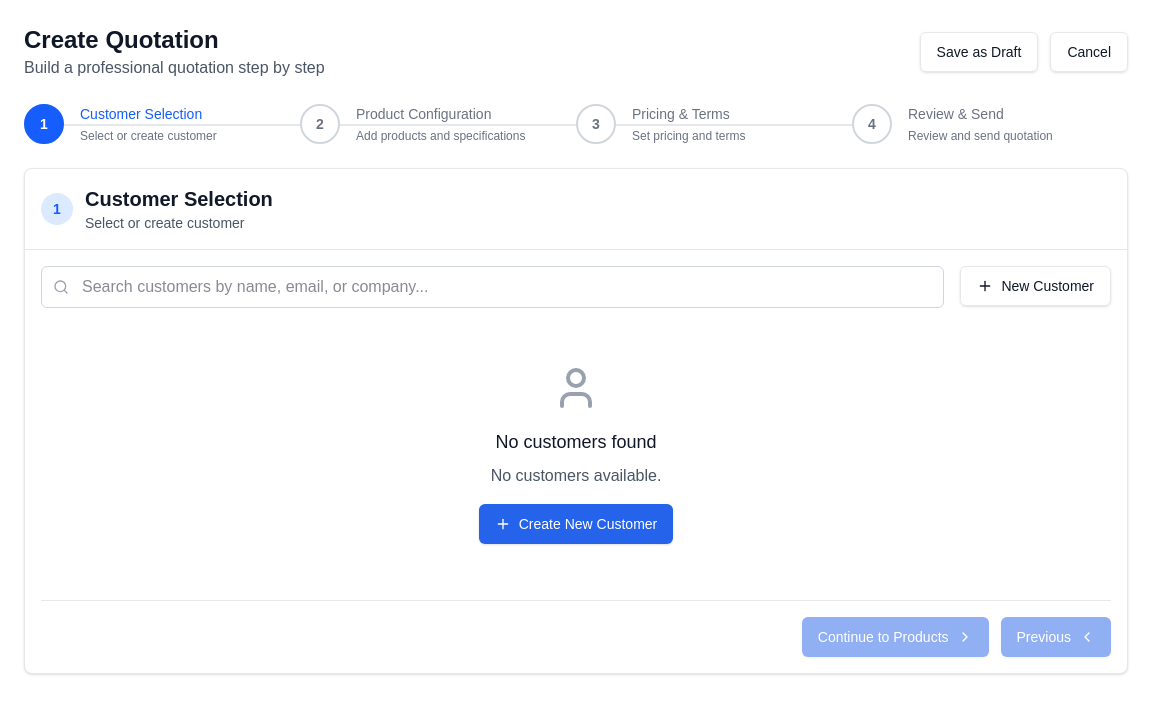
QuotationBuilder › allows switching to new customer form
Click the button "New Customer".
click(1036, 286)  # box [960,266,1111,306]
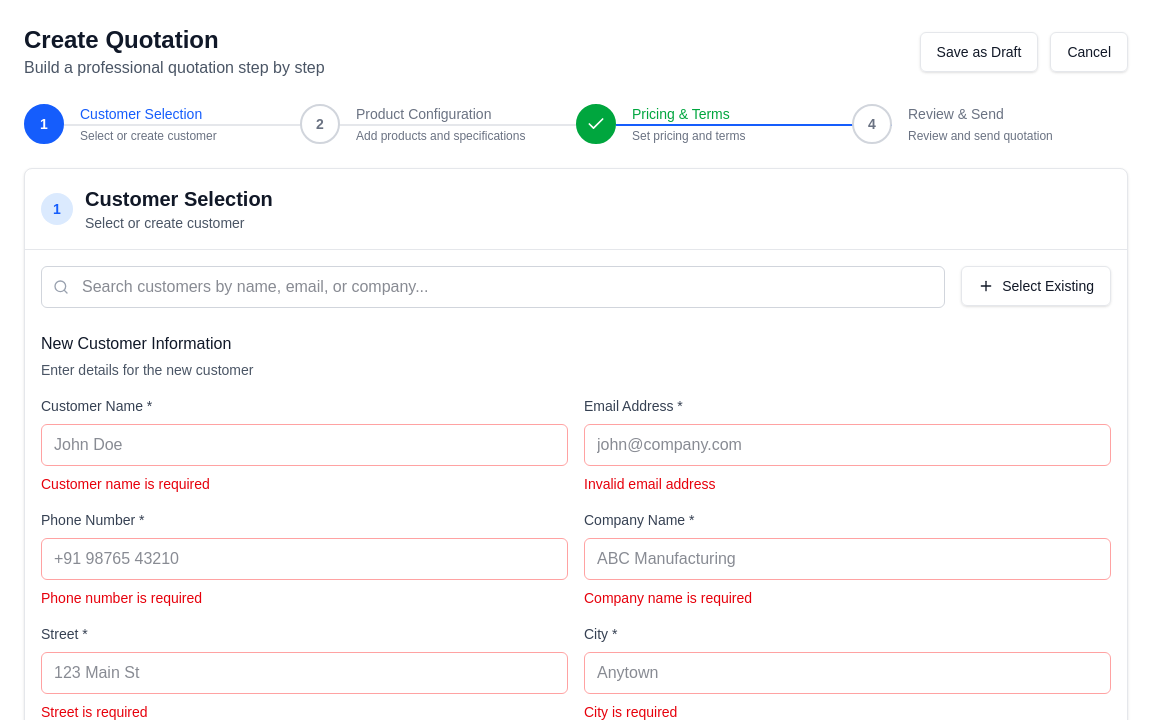
Expected: the heading "New Customer Information" is shown, [41,335,231,352]
Expected: the field with placeholder "John Doe" is shown, [41,424,568,466]
